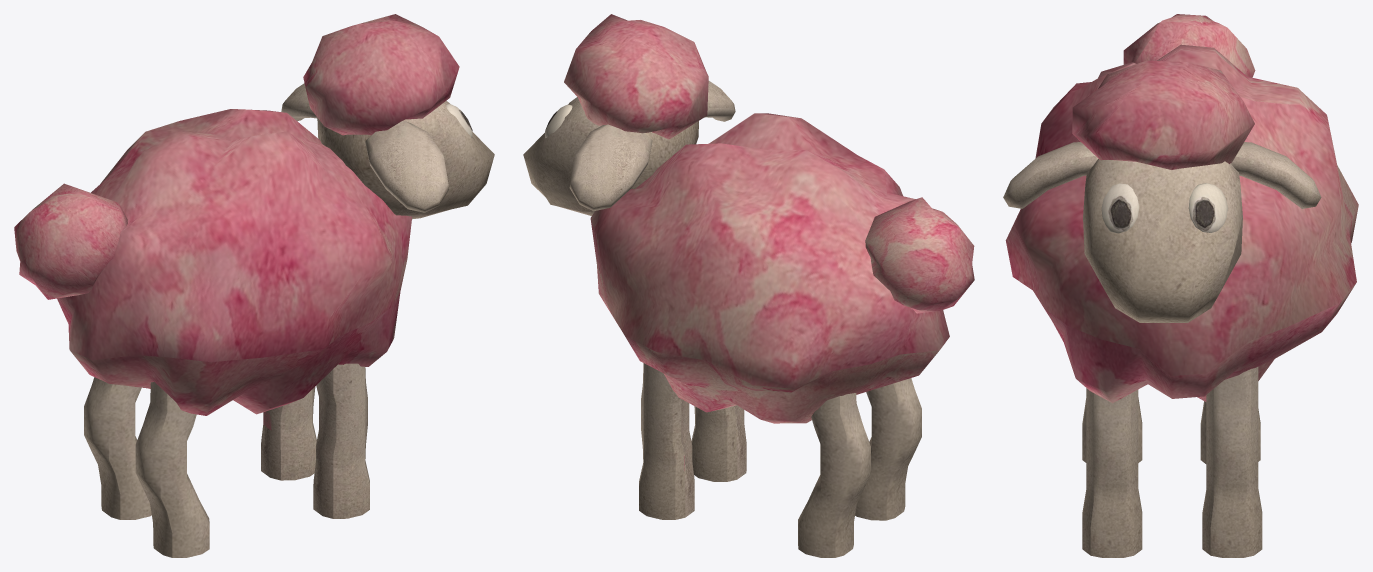
Rendered from sheep3D 1.fbx.
The picture shows the model from 3 angles, left to right: view 1: azimuth 30°, elevation 25°; view 2: azimuth 150°, elevation 25°; view 3: azimuth 270°, elevation 25°; orthographic projection. The views are drawn at different scales.
Parts seen in each view (by area): view 1: pasted__pCube5; view 2: pasted__pCube5; view 3: pasted__pCube5.
Boxes of the visible parts, x1,y1,x2,y2 form: pasted__pCube5: (14, 14, 494, 557); pasted__pCube5: (523, 14, 974, 557); pasted__pCube5: (1003, 14, 1358, 557).
Size of the model in its own units: 11.37 by 10.89 by 6.85.
